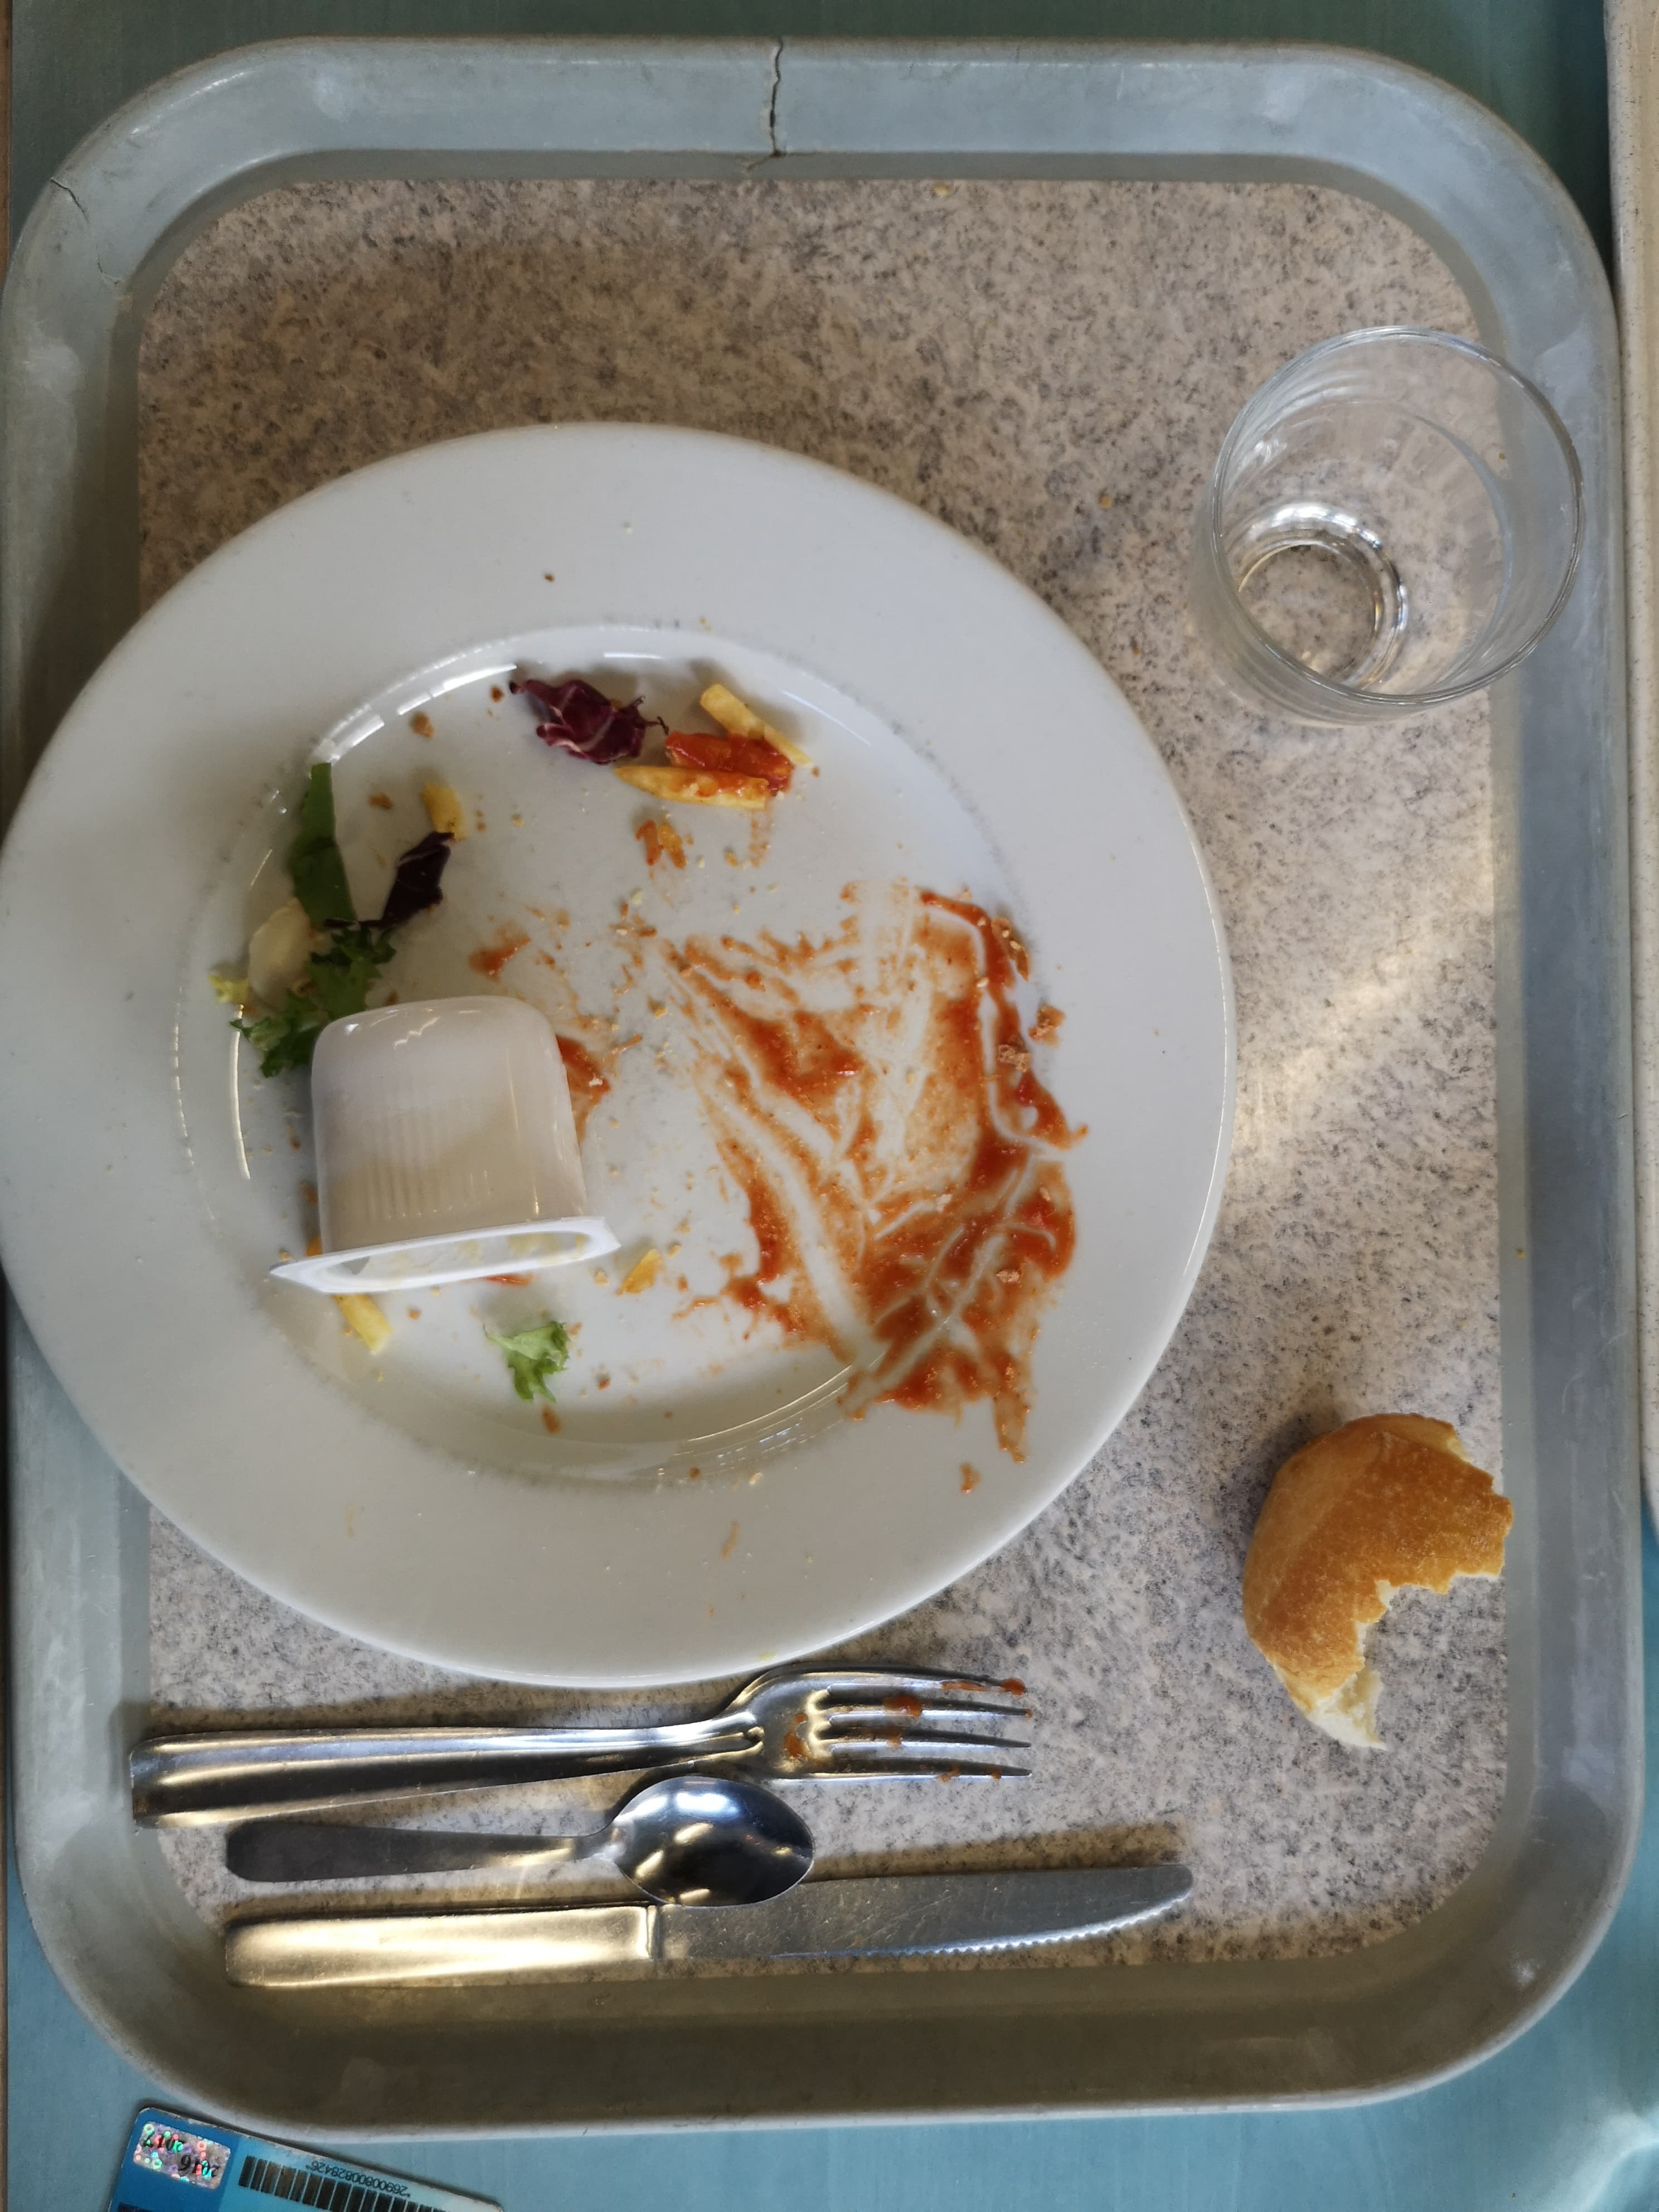cup: (1140, 294, 1659, 806)
cutlery: (249, 1864, 1211, 2008), (117, 1655, 1054, 1799), (232, 1808, 819, 1919)
orga: (202, 674, 788, 986), (1215, 1395, 1532, 1757)
trash: (298, 1031, 573, 1277)
